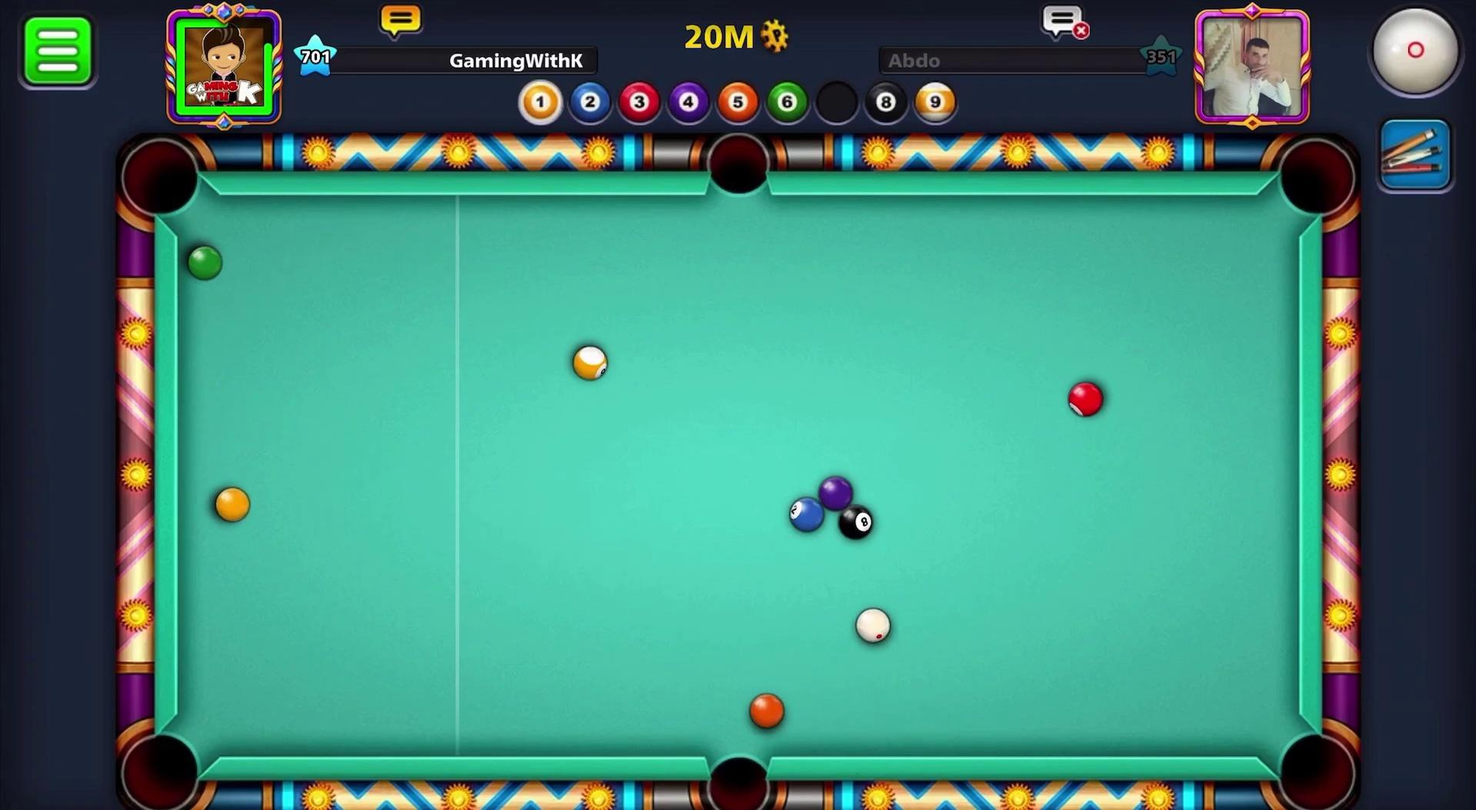Ball: (565, 338, 615, 388), (1063, 377, 1109, 426), (739, 691, 790, 734), (212, 482, 253, 527), (785, 496, 828, 536), (835, 504, 877, 543), (183, 243, 222, 284)
Hole: (111, 128, 210, 232), (1268, 133, 1364, 231), (1264, 715, 1364, 809), (110, 719, 212, 809), (685, 743, 787, 809), (701, 124, 776, 203)
Play_Area: (180, 197, 1295, 760)
Spin: (1348, 0, 1475, 112)
White: (849, 606, 897, 649)
